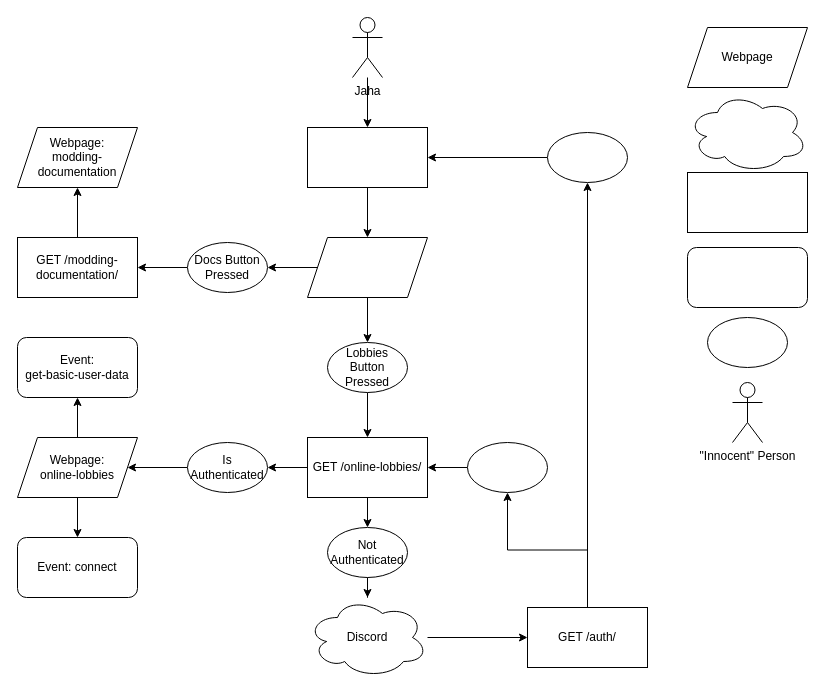
Image size: 825x695. Some labels were removed from this diagram. Each missing label, with the centre of its shape:
Action: pixel 747 342
External Service: pixel 747 132
Failed Authentication: pixel 587 157
GET /: pixel 367 157
HTML Method: pixel 747 202
Socket Event: pixel 747 277
Sucessfull Authentication: pixel 507 467
Webpage: index: pixel 367 267
